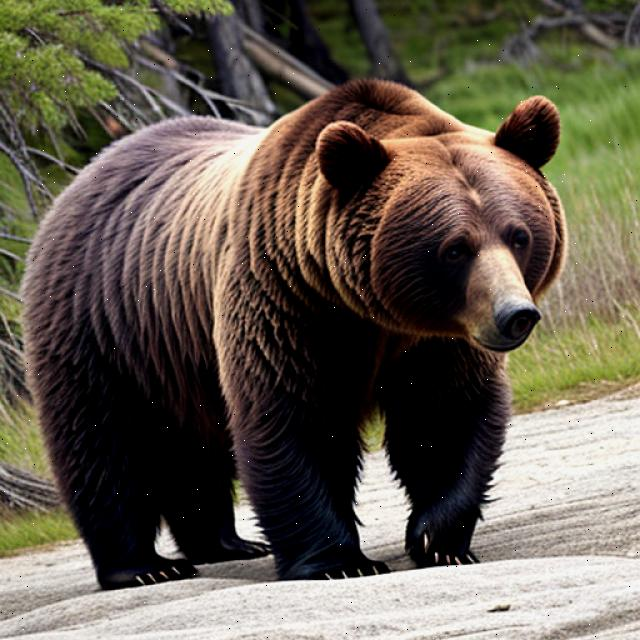bear: (14, 75, 568, 579)
